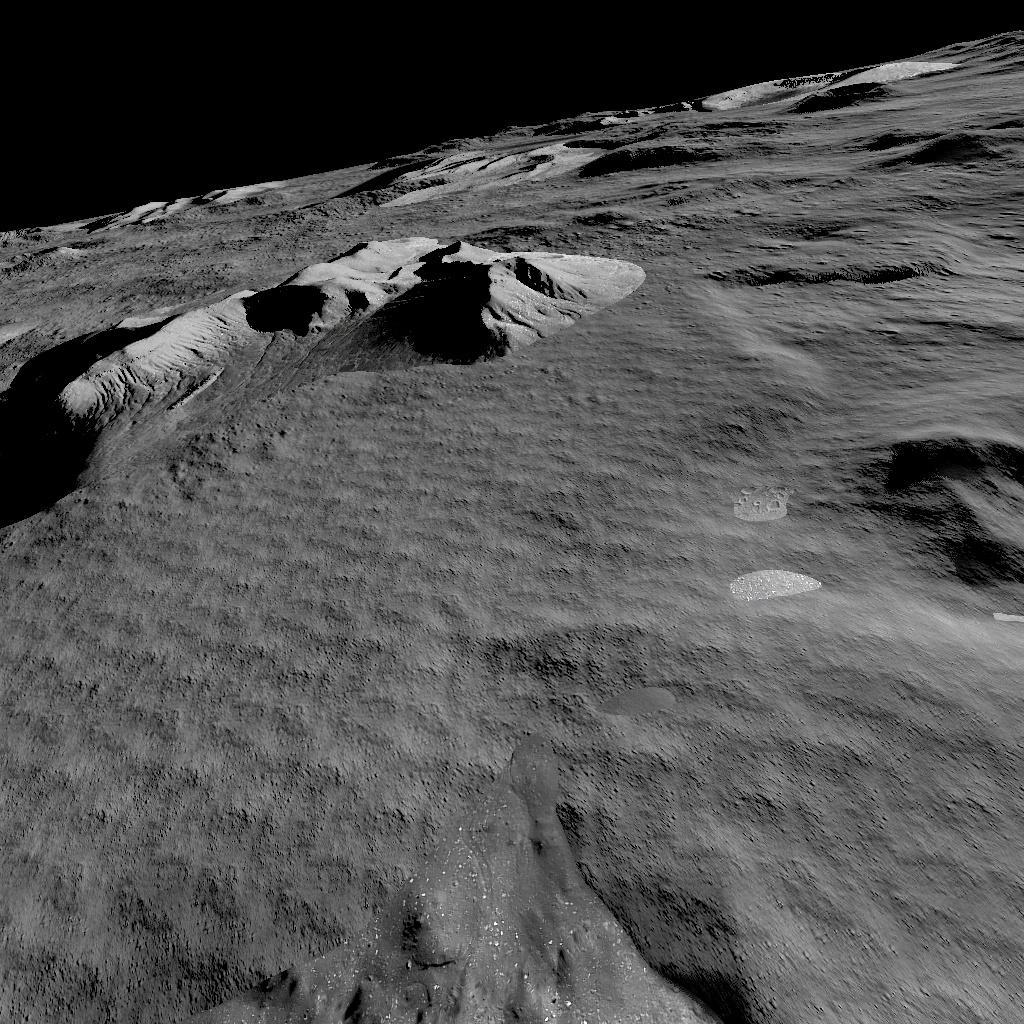Boulders: (6, 230, 650, 500), (348, 28, 1024, 210), (99, 168, 291, 220)
Crater: (5, 836, 1024, 1024), (864, 414, 1024, 602), (702, 242, 946, 301)
Plan surface: (0, 520, 852, 822)
